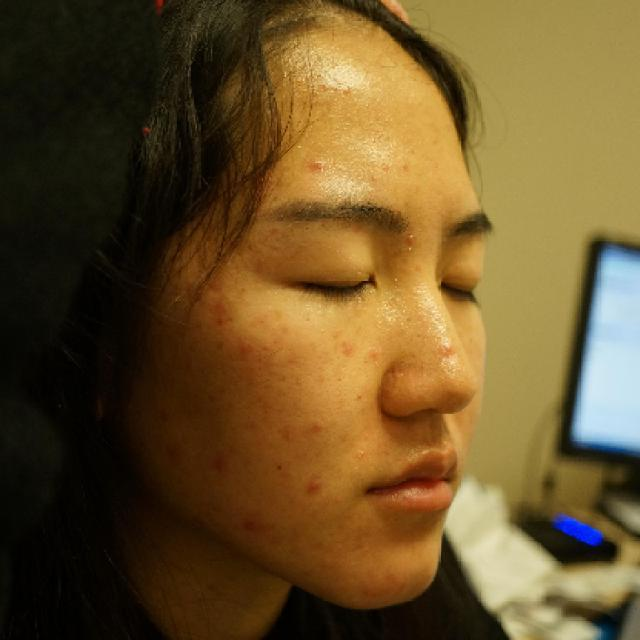acne: (300, 470, 332, 500), (304, 150, 334, 180), (302, 414, 330, 438), (334, 76, 358, 104)
